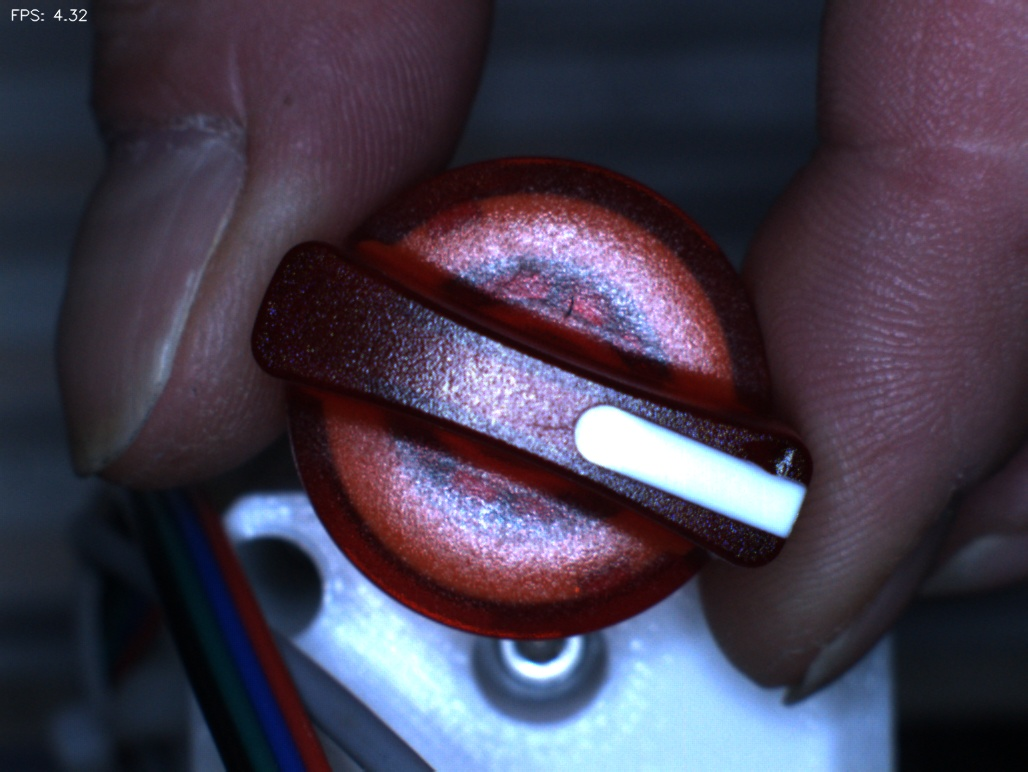Choc: (746, 420, 820, 494)
